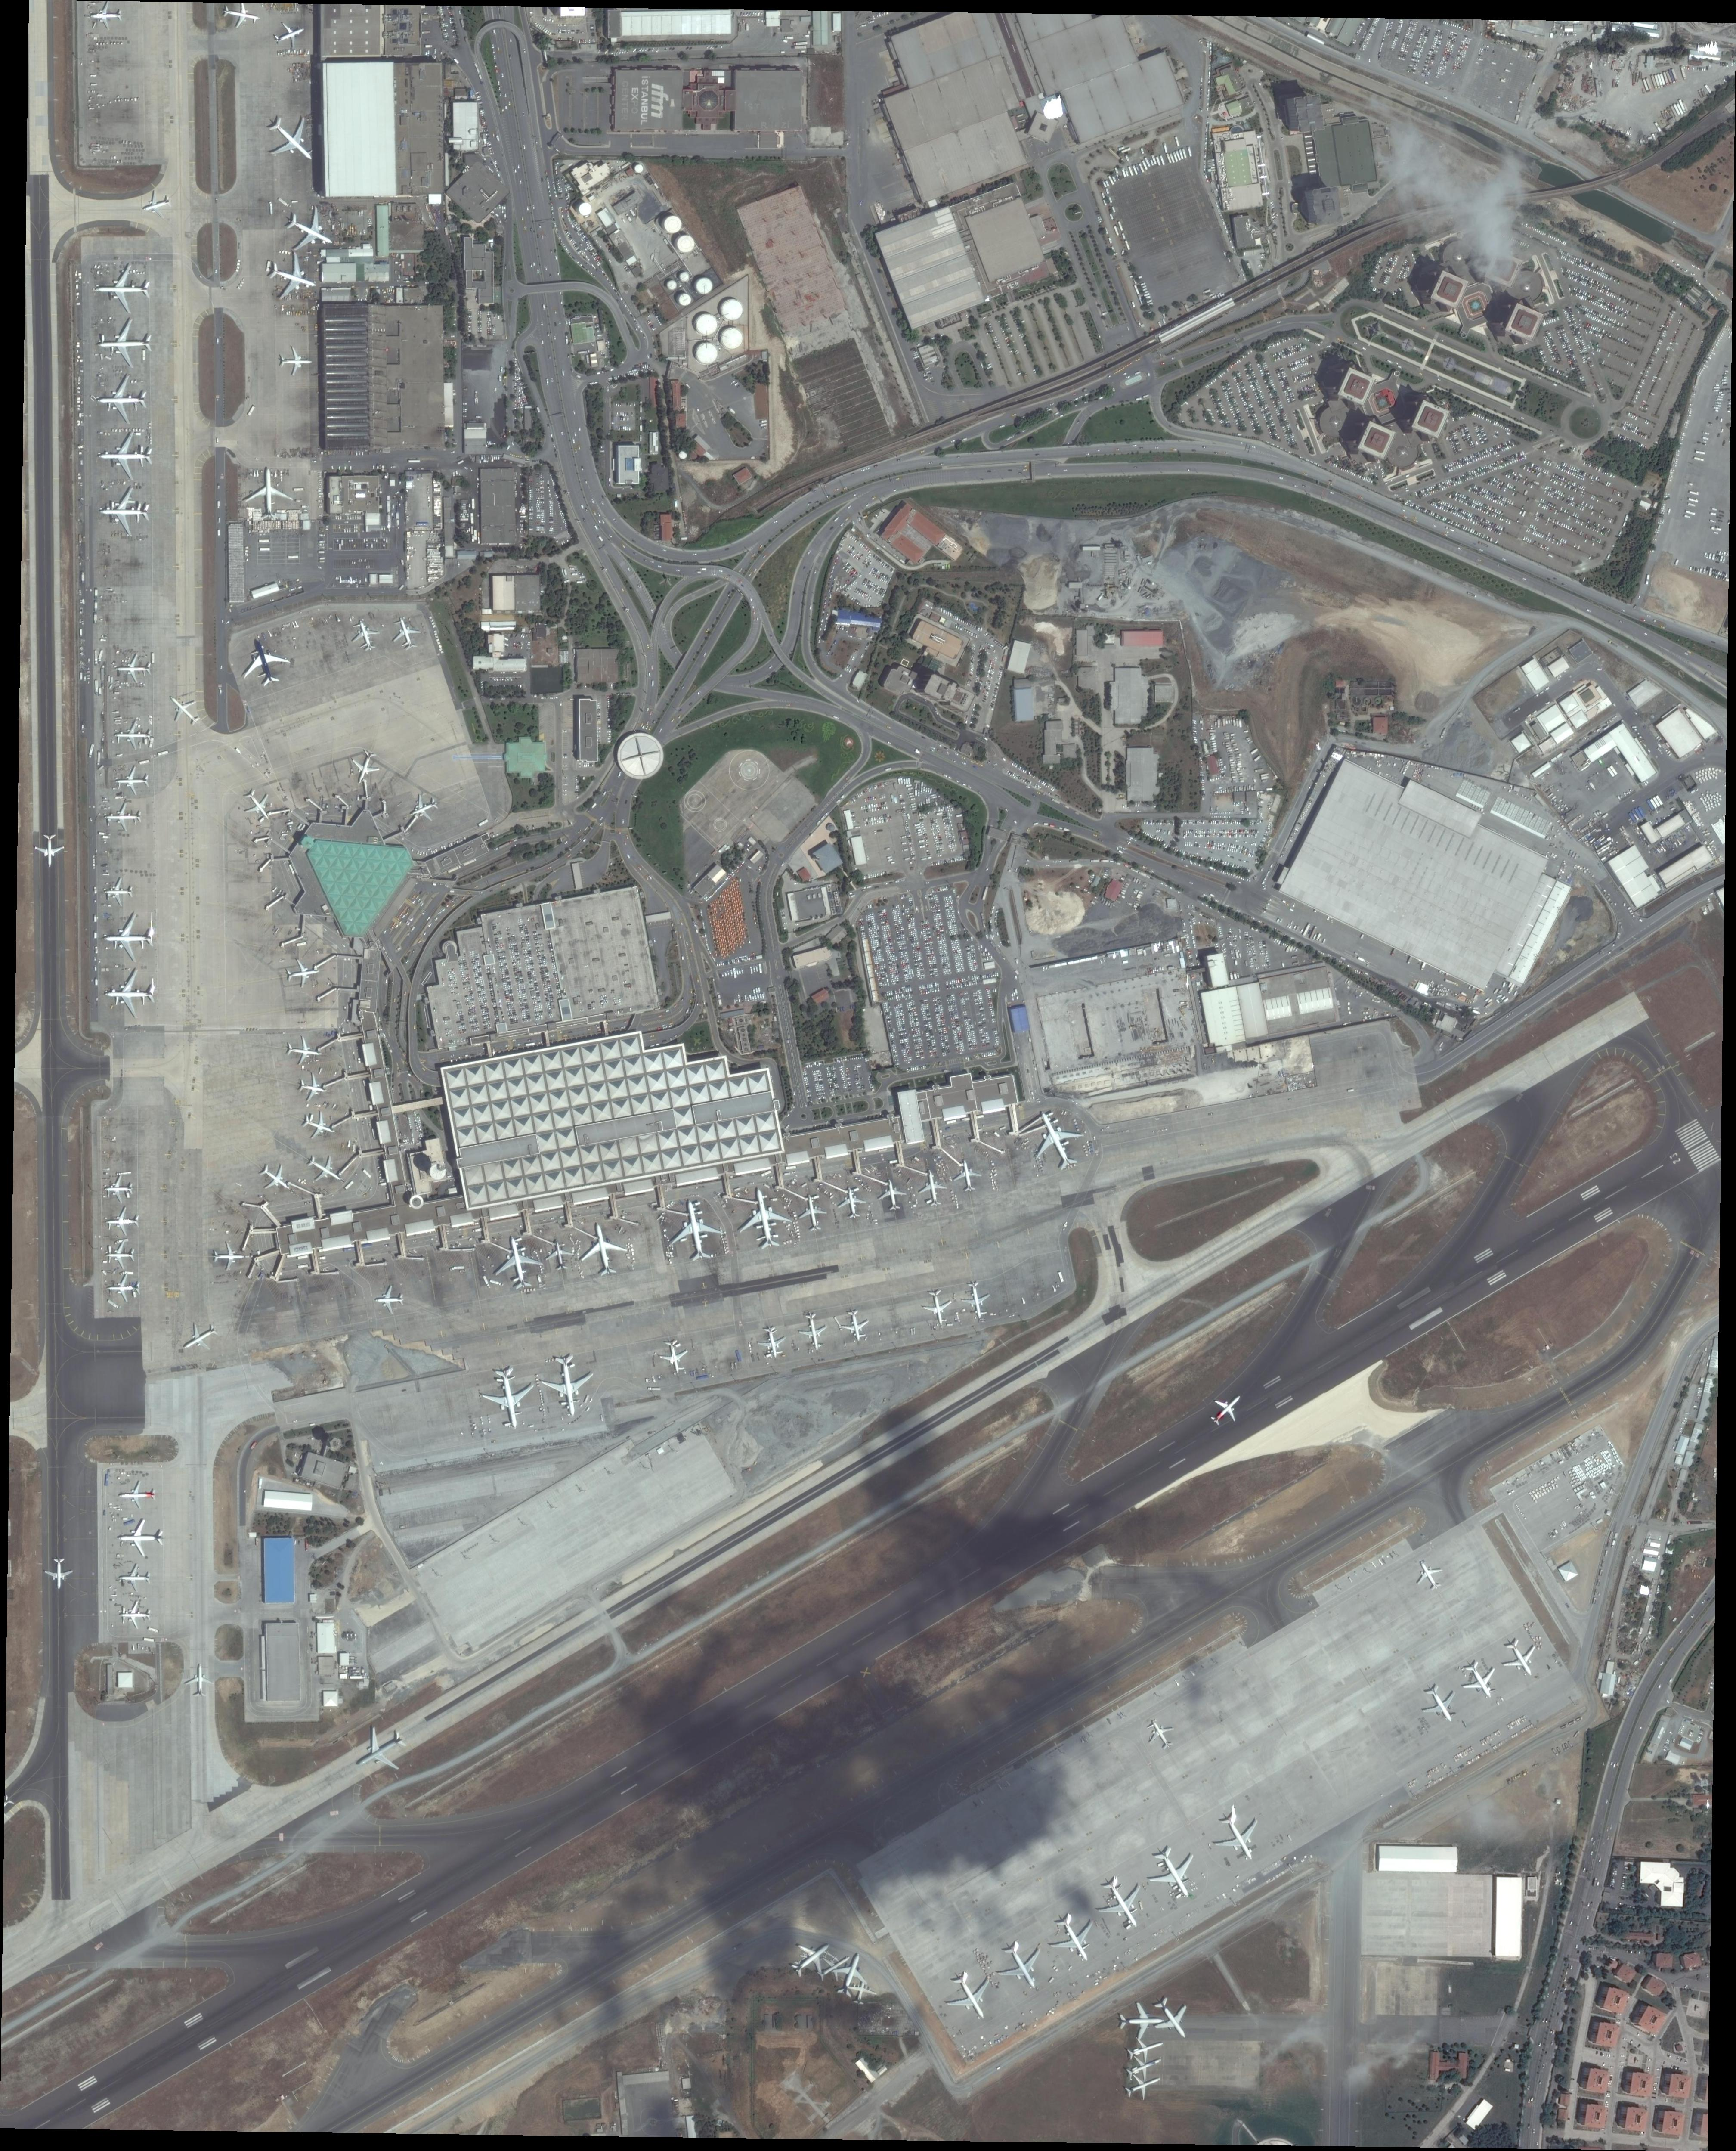plane: (1019, 1102, 1100, 1182), (338, 1713, 420, 1786), (253, 101, 331, 175), (930, 1960, 1008, 2032), (1137, 1839, 1212, 1912), (1199, 1802, 1277, 1871), (661, 1196, 733, 1269), (987, 1930, 1059, 2002), (475, 1363, 546, 1435), (730, 1184, 801, 1256), (1086, 1868, 1159, 1938), (1040, 1905, 1112, 1974), (273, 198, 347, 264), (484, 1230, 551, 1297), (230, 631, 299, 696), (257, 245, 324, 310), (539, 1352, 602, 1421), (572, 1217, 638, 1281), (1143, 1988, 1203, 2048), (241, 464, 299, 524), (1410, 1674, 1470, 1733), (1490, 1630, 1548, 1687), (1451, 1653, 1509, 1708), (92, 262, 152, 315), (99, 431, 156, 485), (101, 967, 159, 1021), (781, 1930, 840, 1983), (96, 317, 156, 369), (103, 911, 158, 966), (824, 1945, 877, 2002), (97, 487, 154, 539), (96, 374, 151, 425), (158, 686, 211, 735), (1201, 1384, 1251, 1433), (234, 780, 283, 827), (175, 1315, 225, 1361), (267, 14, 314, 60), (810, 1945, 857, 1990), (115, 1517, 167, 1557), (299, 1148, 349, 1189), (1118, 2068, 1169, 2107), (1116, 2000, 1167, 2039), (1139, 1713, 1185, 1756), (402, 787, 446, 829), (384, 613, 427, 657), (344, 615, 388, 657), (1407, 1554, 1451, 1596), (296, 1106, 342, 1146), (253, 1157, 299, 1198), (914, 1166, 955, 1212), (1121, 2031, 1169, 2068), (345, 746, 386, 788), (918, 1286, 960, 1327), (957, 1279, 997, 1322), (795, 1191, 834, 1235), (282, 1033, 328, 1070), (289, 1070, 335, 1107), (136, 184, 177, 225), (833, 1184, 873, 1224), (873, 1173, 912, 1215), (282, 955, 326, 992), (1121, 2050, 1167, 2085), (836, 1306, 877, 1345), (794, 1311, 833, 1352), (216, 4, 264, 35), (751, 1322, 792, 1359), (542, 1239, 581, 1276), (949, 1157, 987, 1196), (112, 718, 154, 751), (119, 1478, 161, 1511), (103, 799, 143, 833), (113, 652, 154, 686), (182, 1662, 216, 1701), (117, 1598, 156, 1632), (278, 344, 315, 377), (657, 1340, 691, 1377), (115, 765, 154, 797), (106, 1272, 145, 1304), (43, 1556, 76, 1591), (34, 833, 66, 870), (105, 1207, 142, 1239), (103, 1173, 138, 1205), (374, 1285, 409, 1316), (211, 1242, 246, 1274), (103, 875, 136, 907), (89, 2, 124, 32), (105, 1240, 136, 1270), (119, 1563, 152, 1591)
